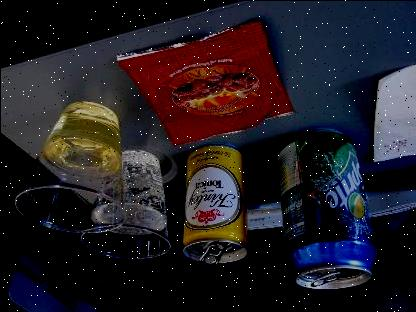Can: (276, 129, 376, 289), (181, 144, 250, 264)
Others: (116, 20, 296, 146)
